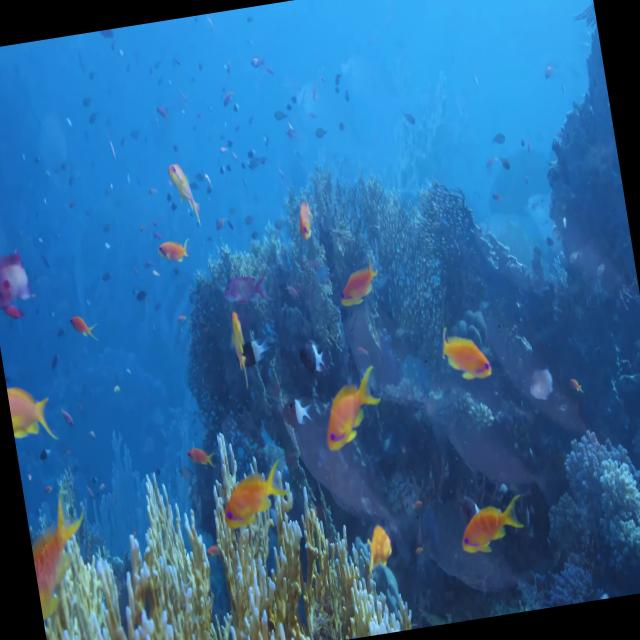fish: (23, 486, 94, 618), (318, 370, 386, 452), (216, 458, 288, 530), (454, 496, 526, 554), (436, 321, 492, 384), (6, 378, 56, 448), (335, 258, 383, 310)
